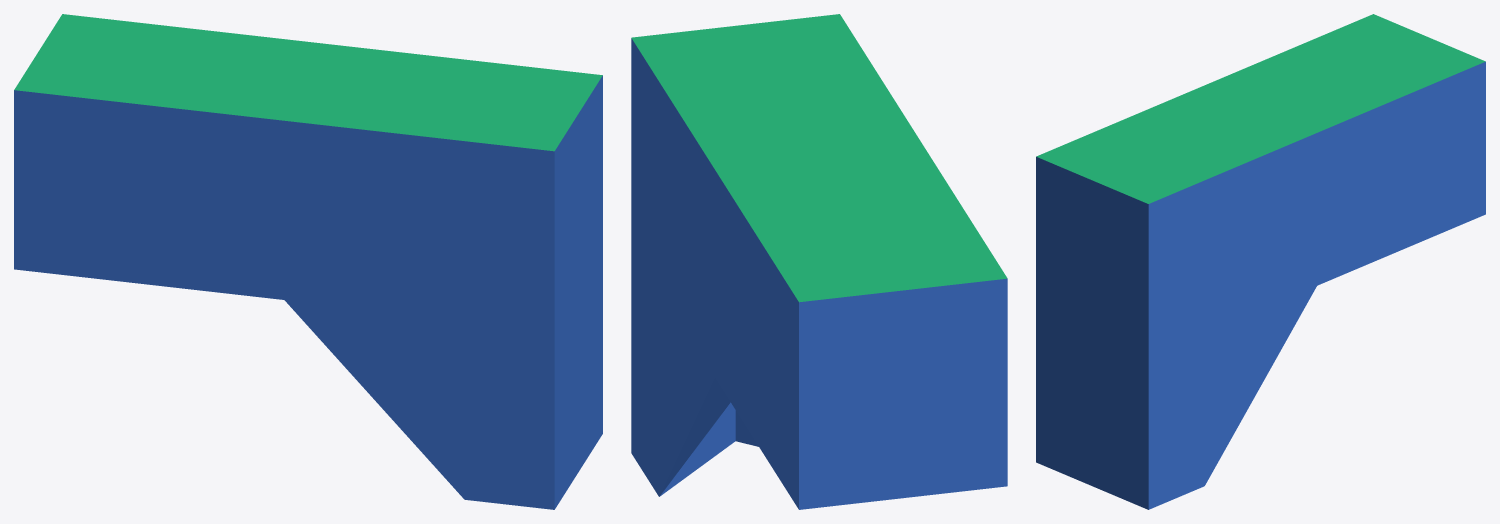
Rendered from walls_type_12.glb.
The picture shows the model from 3 angles, left to right: view 1: azimuth 30°, elevation 25°; view 2: azimuth 150°, elevation 25°; view 3: azimuth 270°, elevation 25°; orthographic projection. The views are drawn at different scales.
Visible parts, largest first — view 1: Type_12; view 2: Type_12; view 3: Type_12.
Part boxes in pixels (left/top/right/bottom): Type_12: left=14, top=14, right=602, bottom=509; Type_12: left=631, top=14, right=1007, bottom=509; Type_12: left=1036, top=14, right=1485, bottom=509.
Bounding box in the file's own units: 1.33 × 1 × 1.33.
